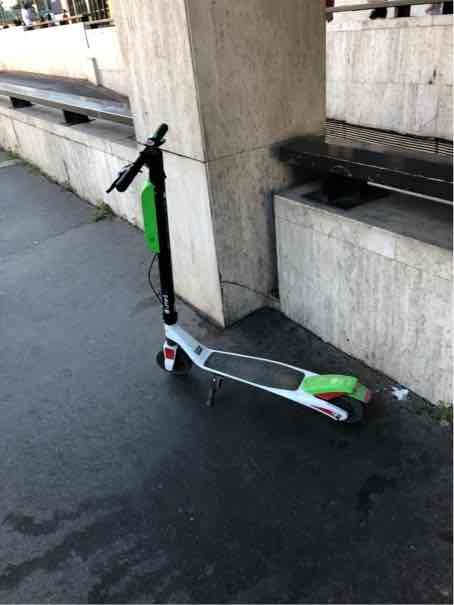scooter: (92, 111, 382, 430)
